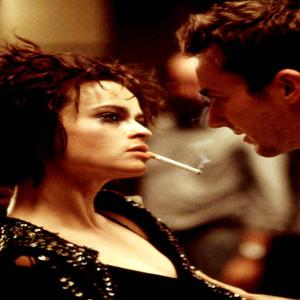cigarette: (148, 152, 203, 175)
